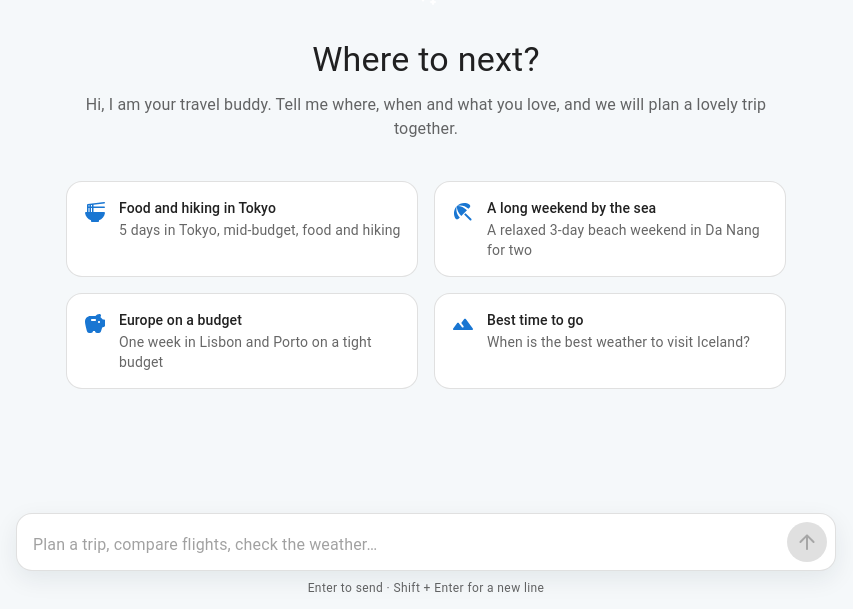
ChatPage › restores the draft and adds no bubbles when creating the conversation fails
The width and height of the screenshot is (853, 609).
In the text box named "Message": (406, 545) [33,533,779,556], type "Hello"
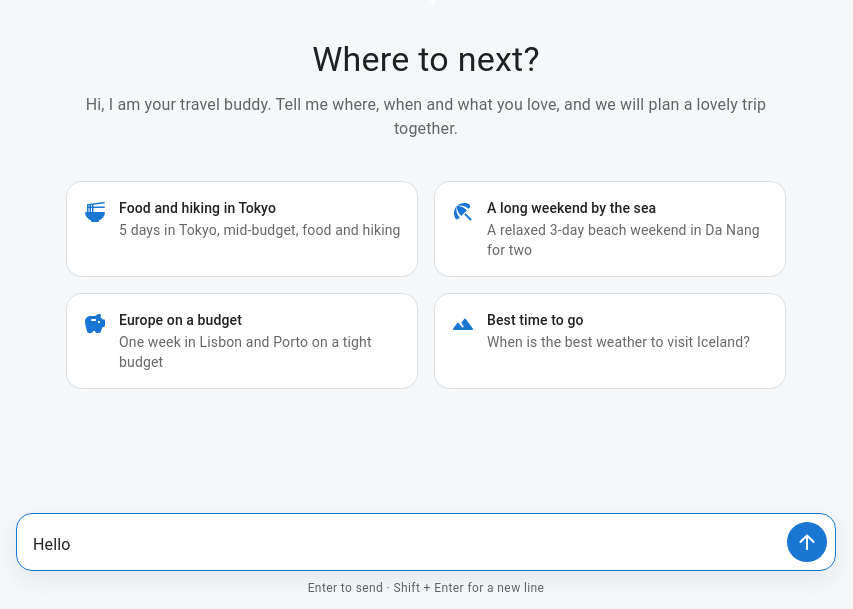
Click the button named "Send": (807, 542) [787,522,827,562]
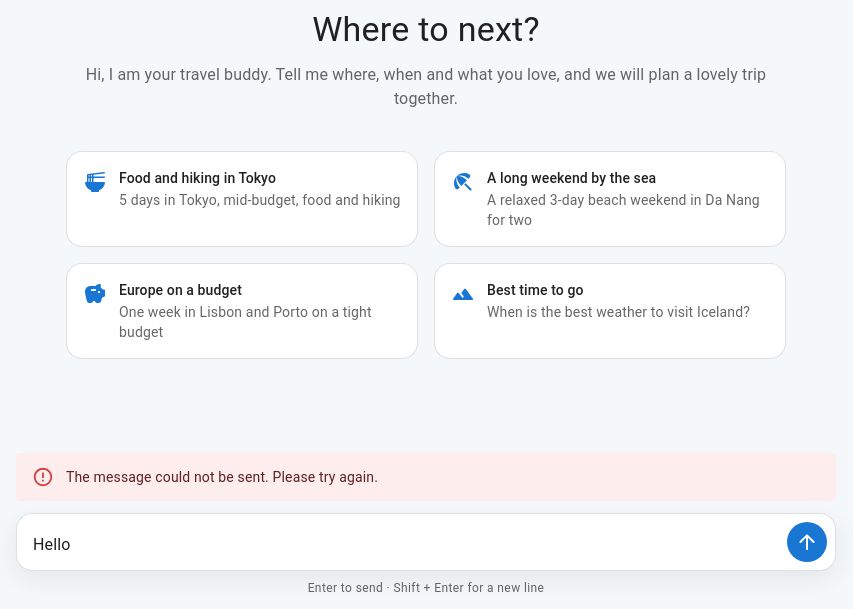
Expected: the message "The message could not be sent. Please try again." is shown, [16,453,836,501]
